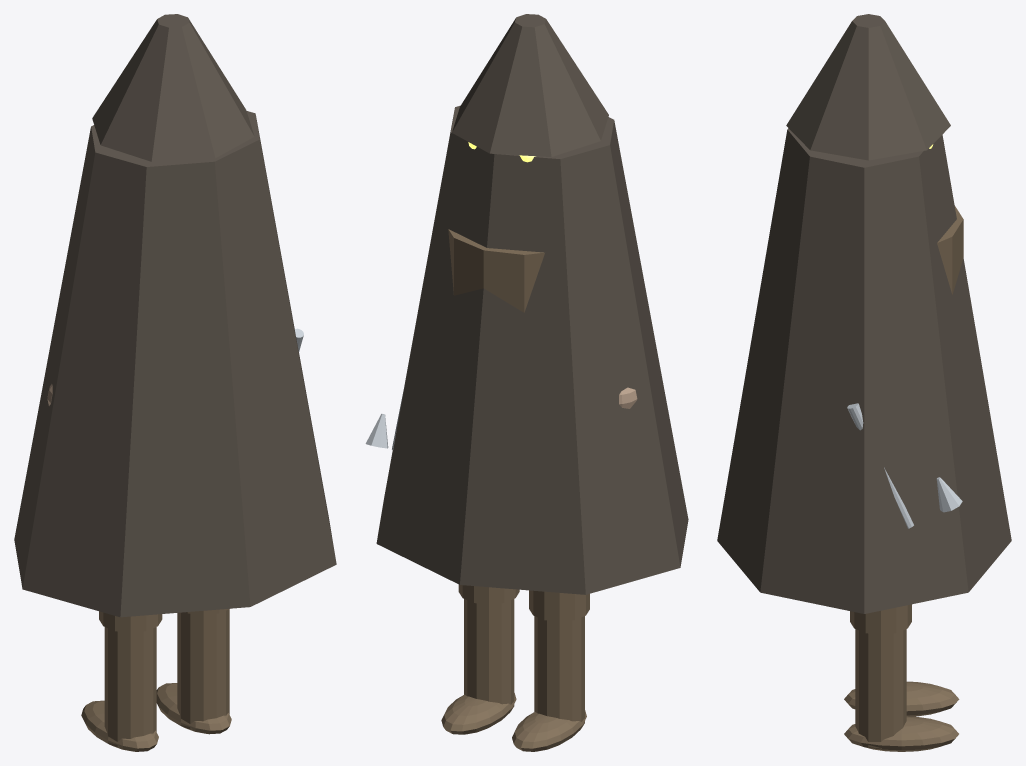
File: bandit.glb
3 views of the same model, side by side, from view 1: azimuth 30°, elevation 25°; view 2: azimuth 150°, elevation 25°; view 3: azimuth 270°, elevation 25° (orthographic). The views are drawn at different scales.
Visible parts, largest first — view 1: bandit; view 2: bandit; view 3: bandit.
Boxes of the visible parts, <box> form: bandit: <box>14,14,336,751</box>; bandit: <box>365,14,688,751</box>; bandit: <box>717,14,1011,751</box>.
Bounding box in the file's own units: 0.84 × 1.89 × 0.714.
